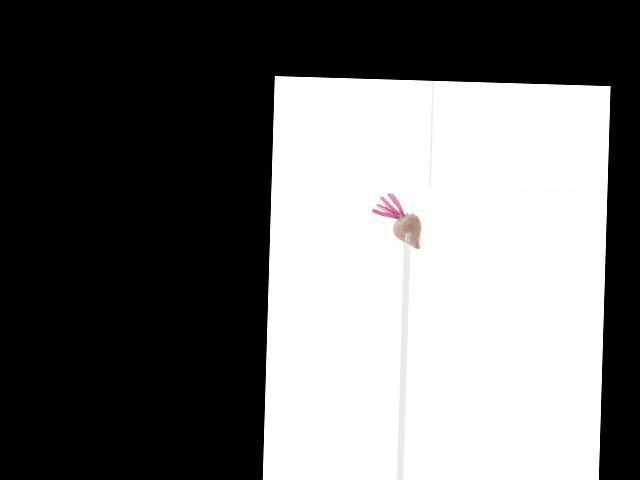beet: (370, 192, 421, 249)
